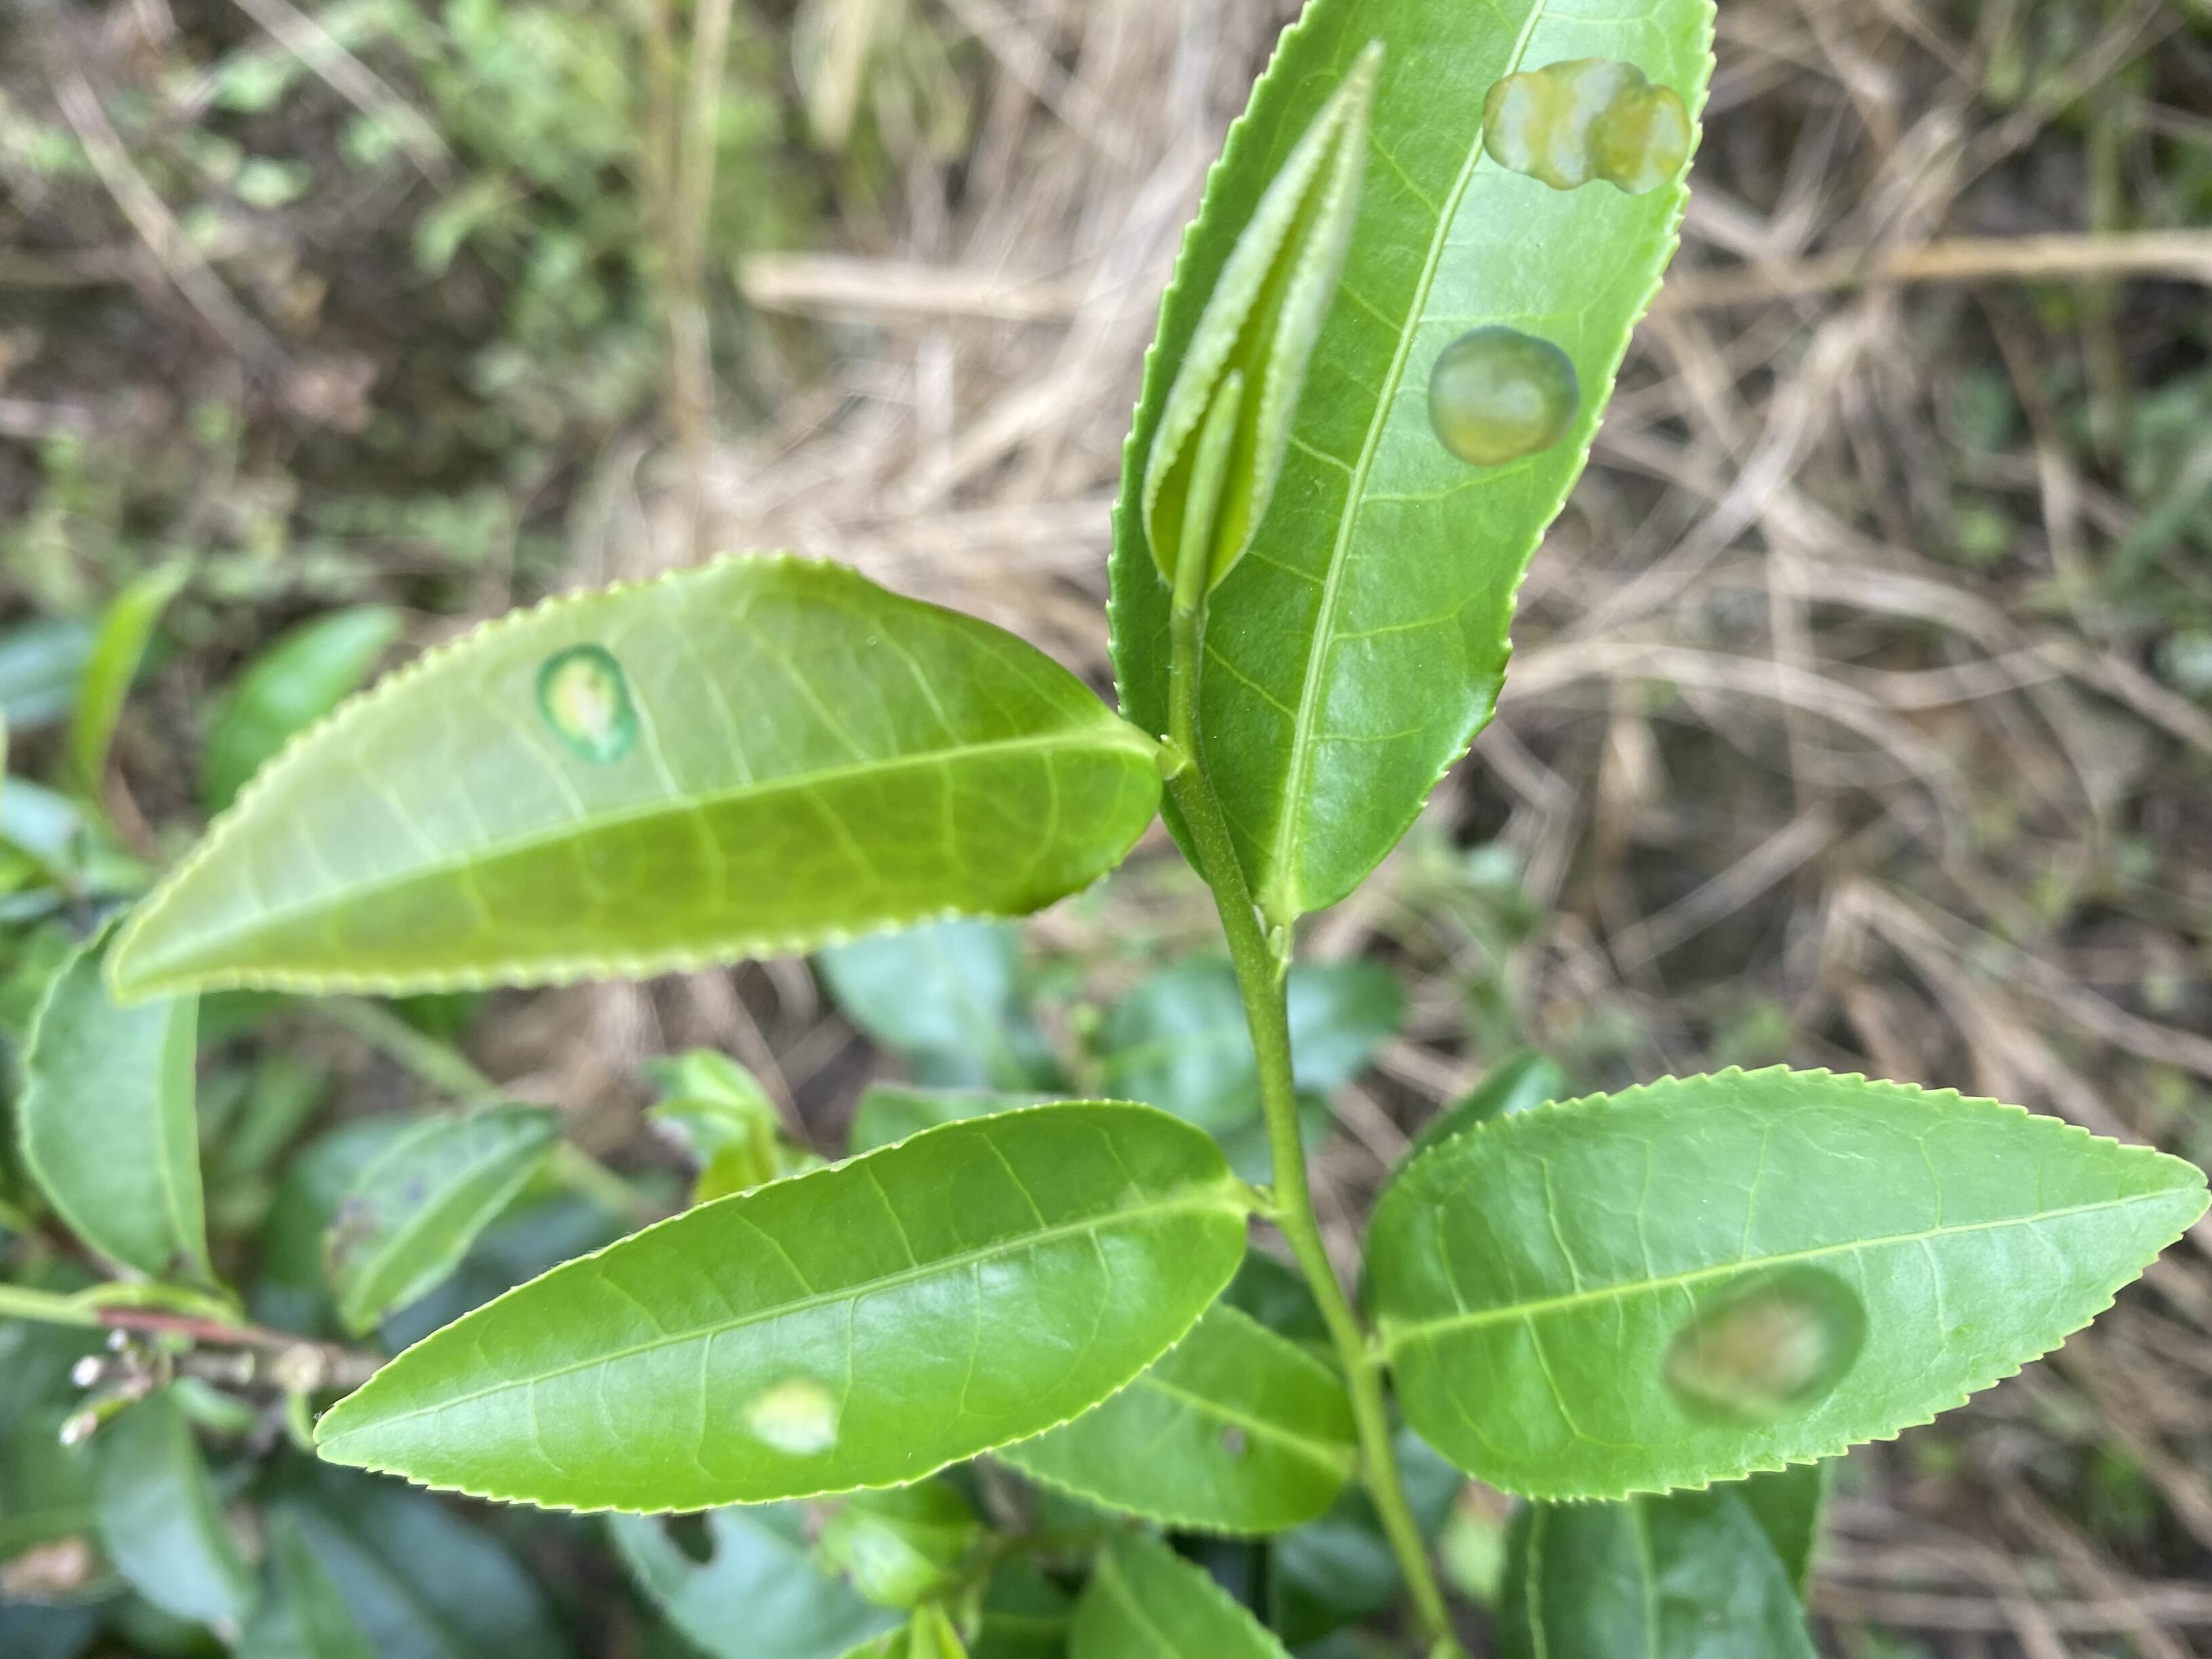chabing_high: (1103, 2, 1719, 924)
chabing_low: (103, 552, 1167, 1000), (315, 1096, 1256, 1518), (1353, 1061, 2207, 1504)
